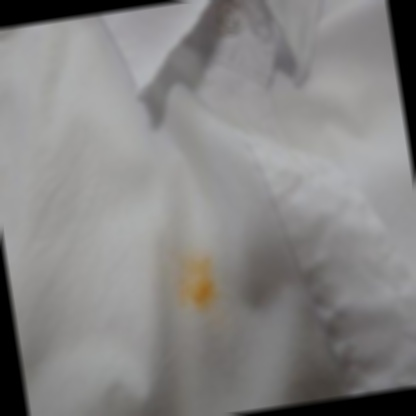kimchi: (162, 252, 230, 315)
